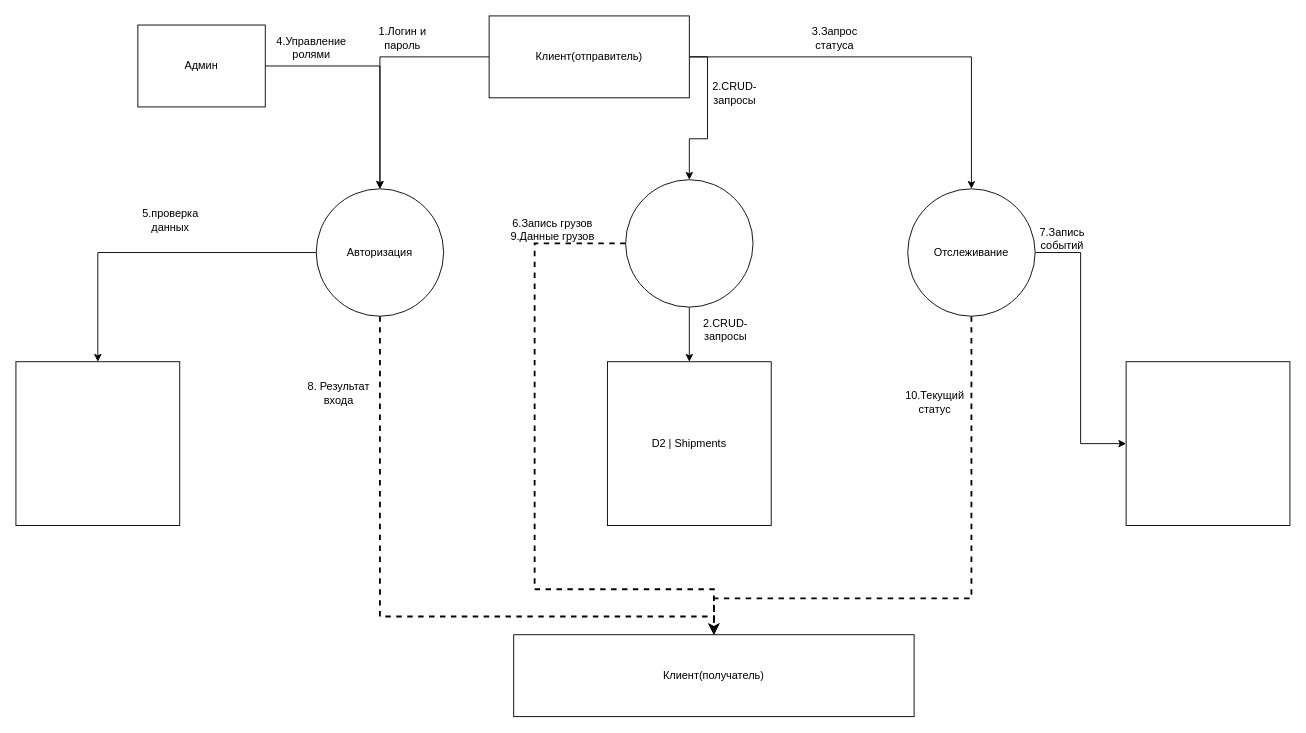
Some shapes in this 1306 by 733 pixel diagram are drawn without their labels. The centre of each missing label's shape, as x and y in pixels:
D1 | Users: point (97, 443)
D3 | Tracking: point (1207, 443)
Управление грузами CRUD-Операции: point (689, 243)
